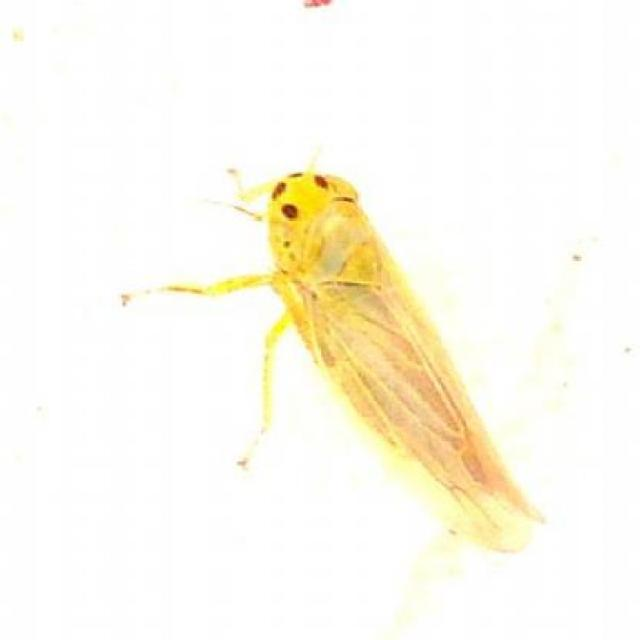green-leafhopper: (258, 168, 518, 550)
